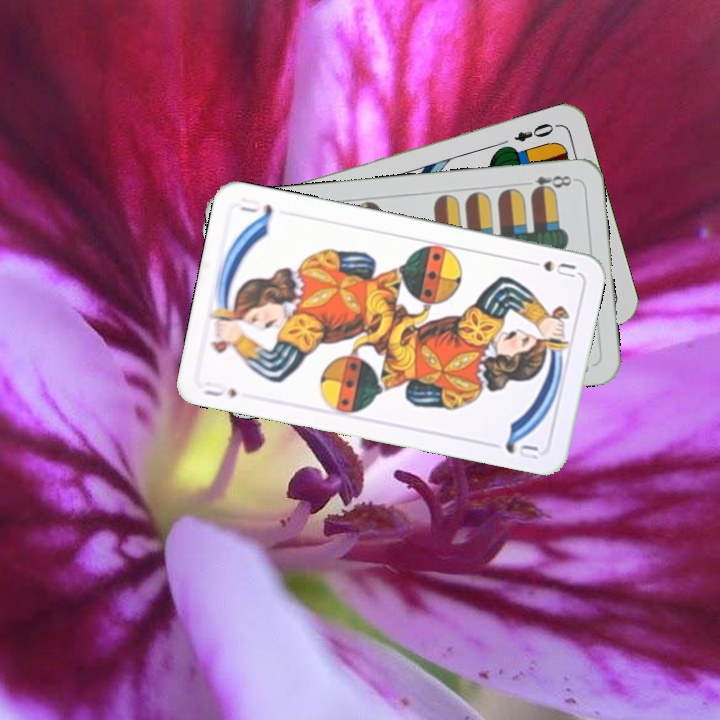E8: (527, 171, 578, 196)
EO: (510, 119, 557, 145)
SU: (521, 256, 578, 280), (199, 377, 239, 400)
